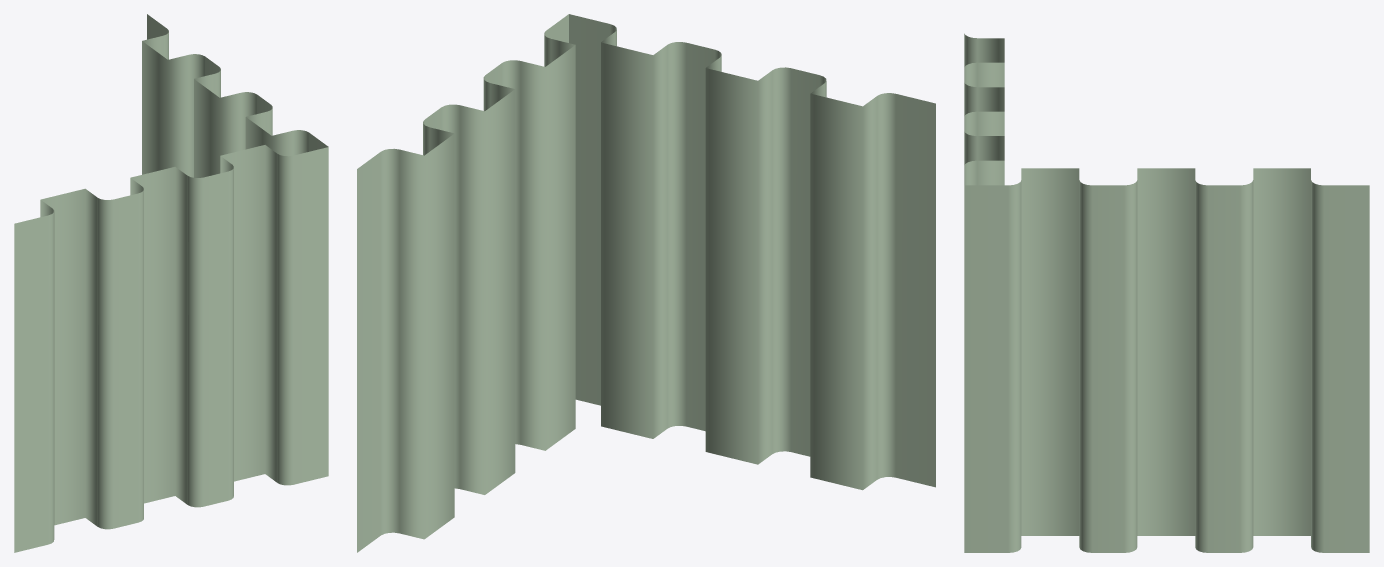
The model's file is sm_box_wall_corner.glb.
3 views of the same model, side by side, from view 1: azimuth 30°, elevation 25°; view 2: azimuth 150°, elevation 25°; view 3: azimuth 270°, elevation 25° (orthographic). The views are drawn at different scales.
Parts seen in each view (by area): view 1: Box_Wall_Corner; view 2: Box_Wall_Corner; view 3: Box_Wall_Corner.
Boxes of the visible parts, box(x1,y1,x2,y2) form: Box_Wall_Corner: box(14, 14, 328, 552); Box_Wall_Corner: box(357, 14, 935, 552); Box_Wall_Corner: box(964, 33, 1369, 552).
Size of the model in its own units: 2 by 2 by 2.
